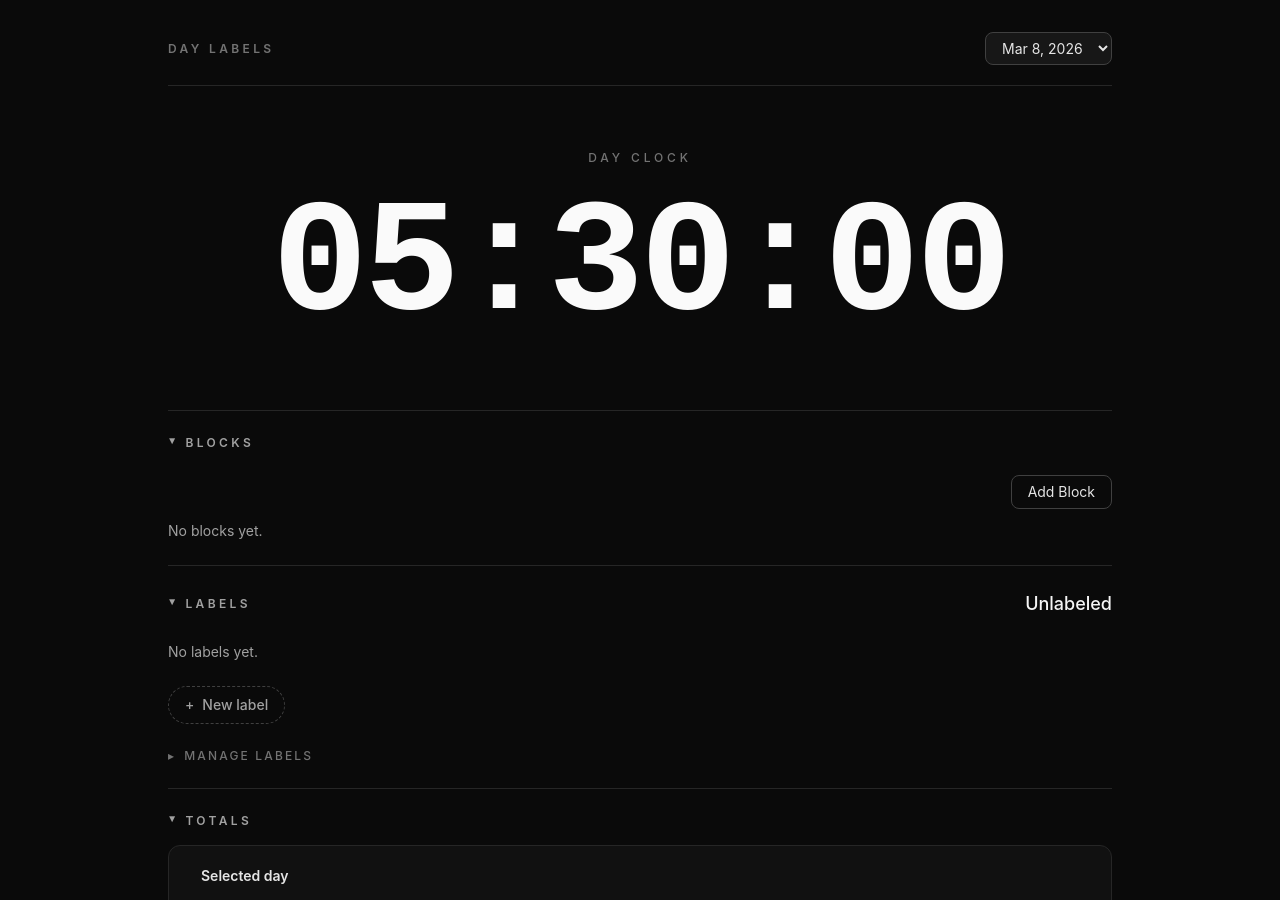
Test case: Blocks › closes the Block and adds no Block when deselecting
Click the button "+ New label" at (227, 705), box [168,686,285,724]
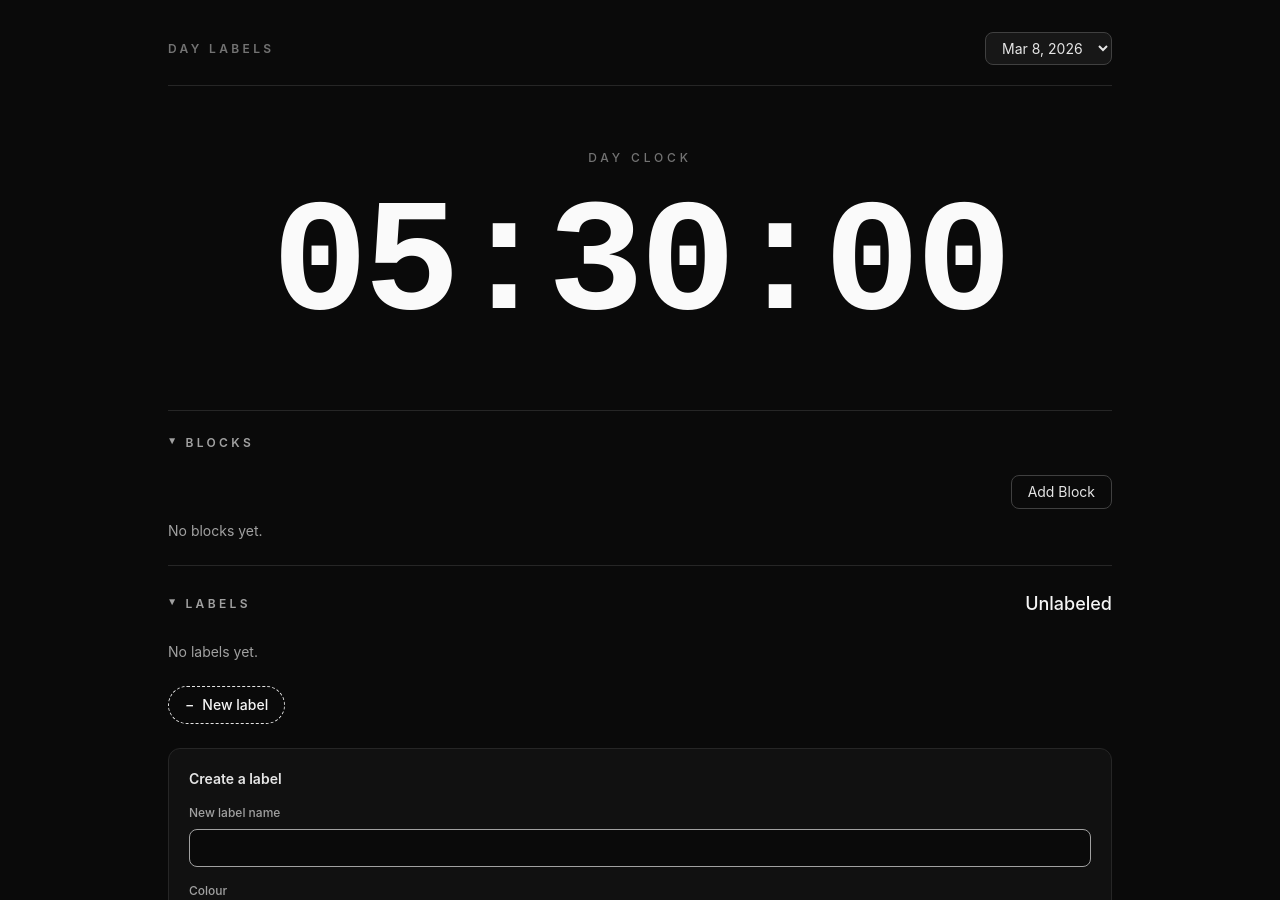
Type "Work" into the field labelled "New label name" at (640, 848), box [189,829,1091,867]
(page scrolled)
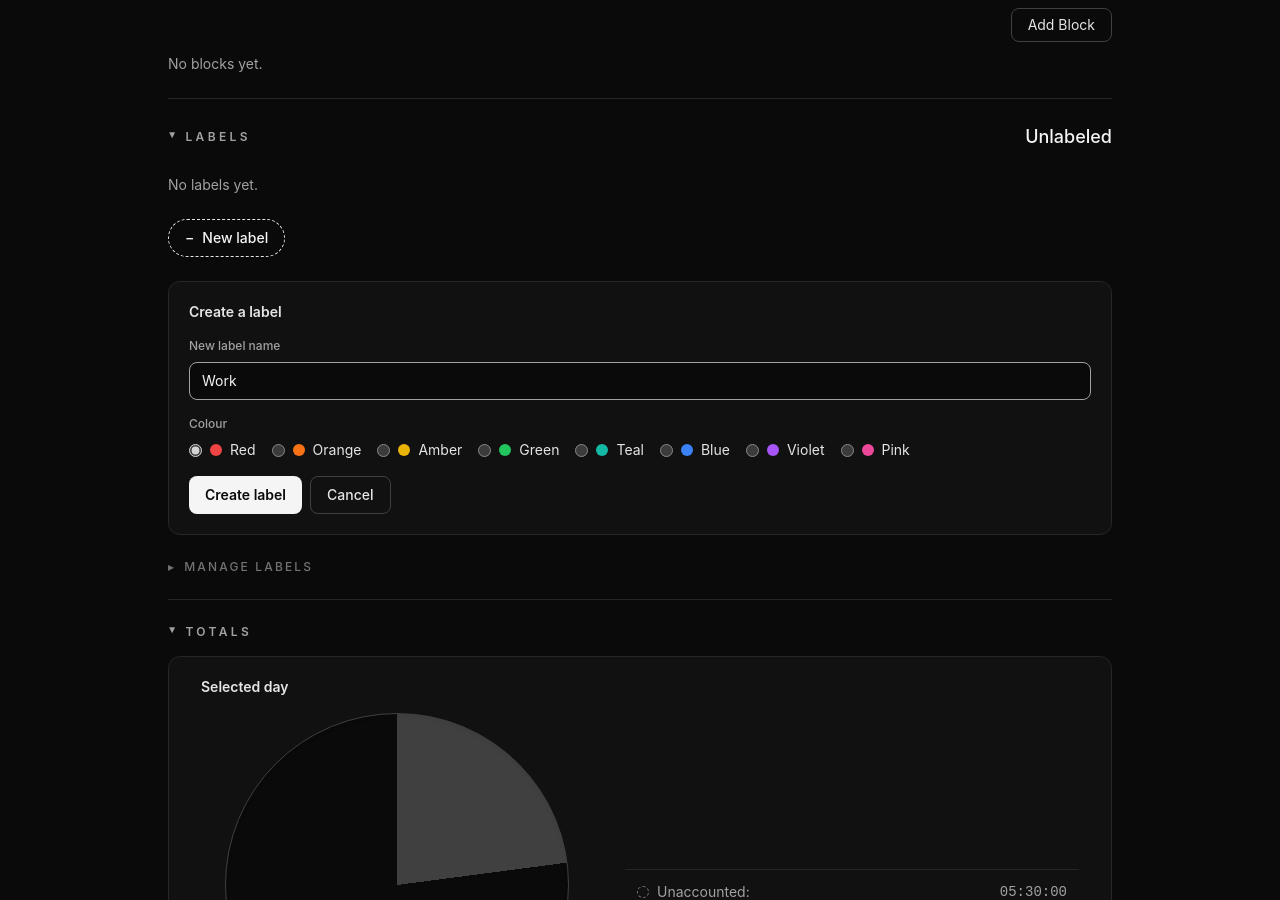
Click the radio button labelled "Blue" at (666, 450), box [660,444,673,456]
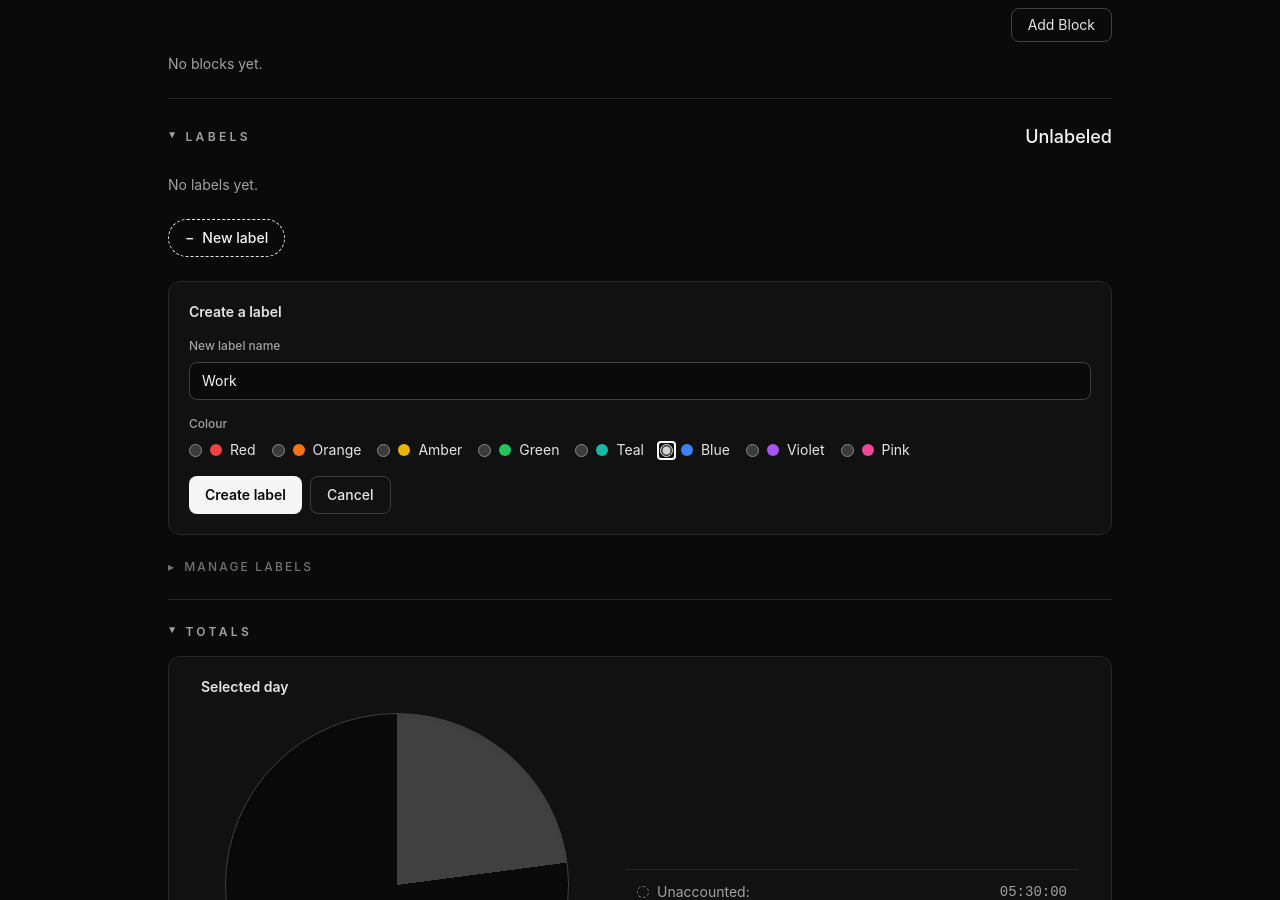
Click the button "Create label" at (246, 495), box [189,476,302,514]
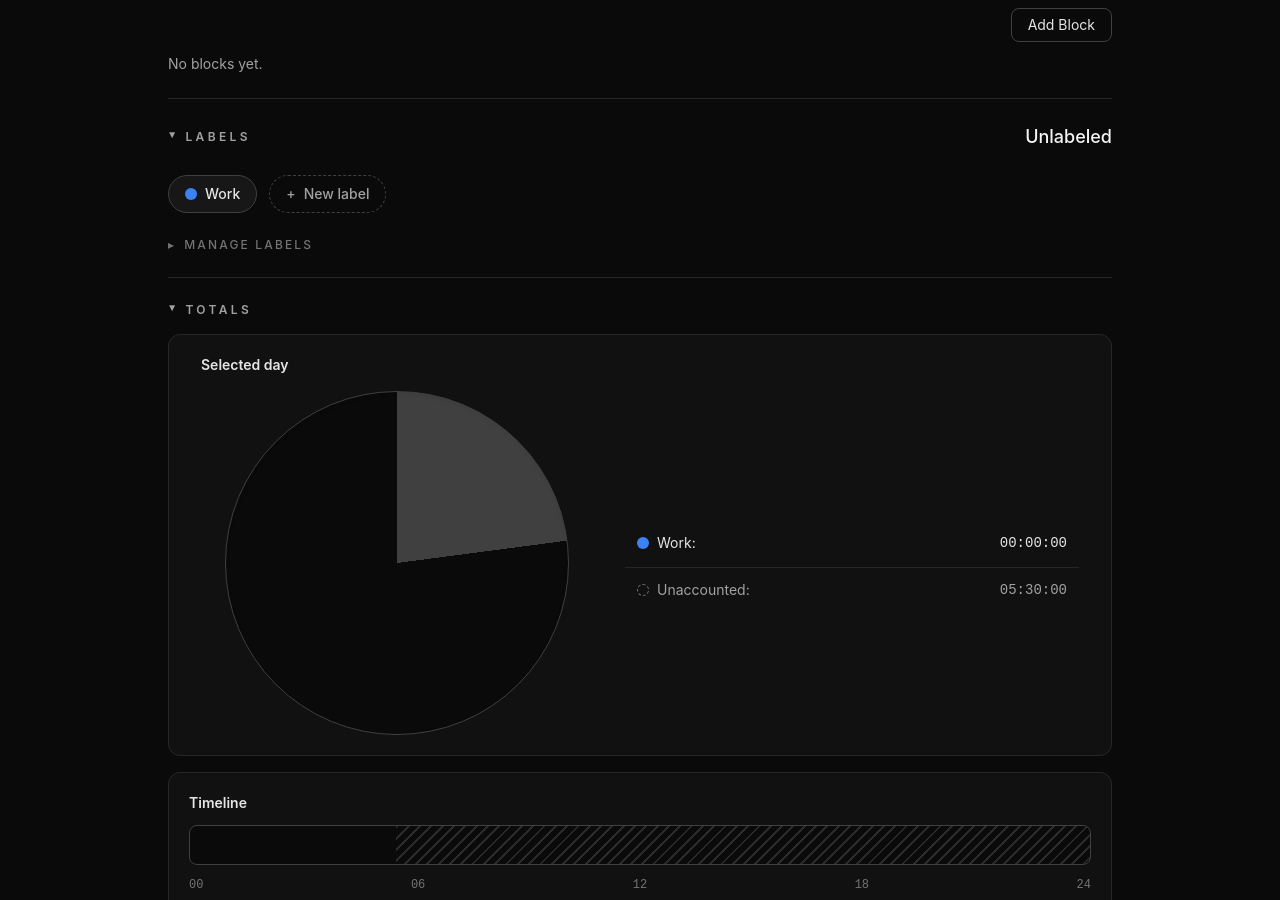
Click the button "Work" at (213, 194), box [168,175,257,213]
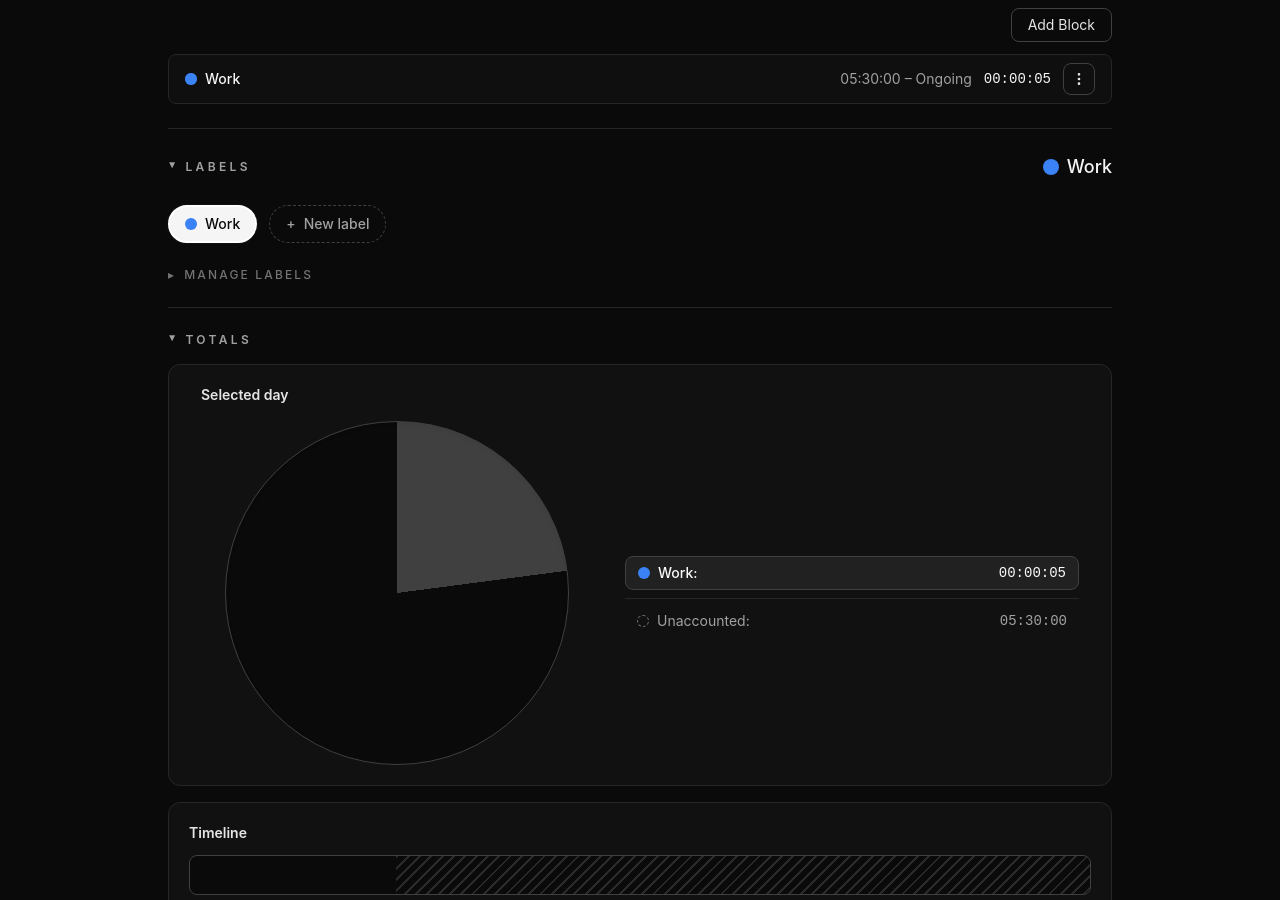
Click the button "Work" at (213, 224), box [168,205,257,243]
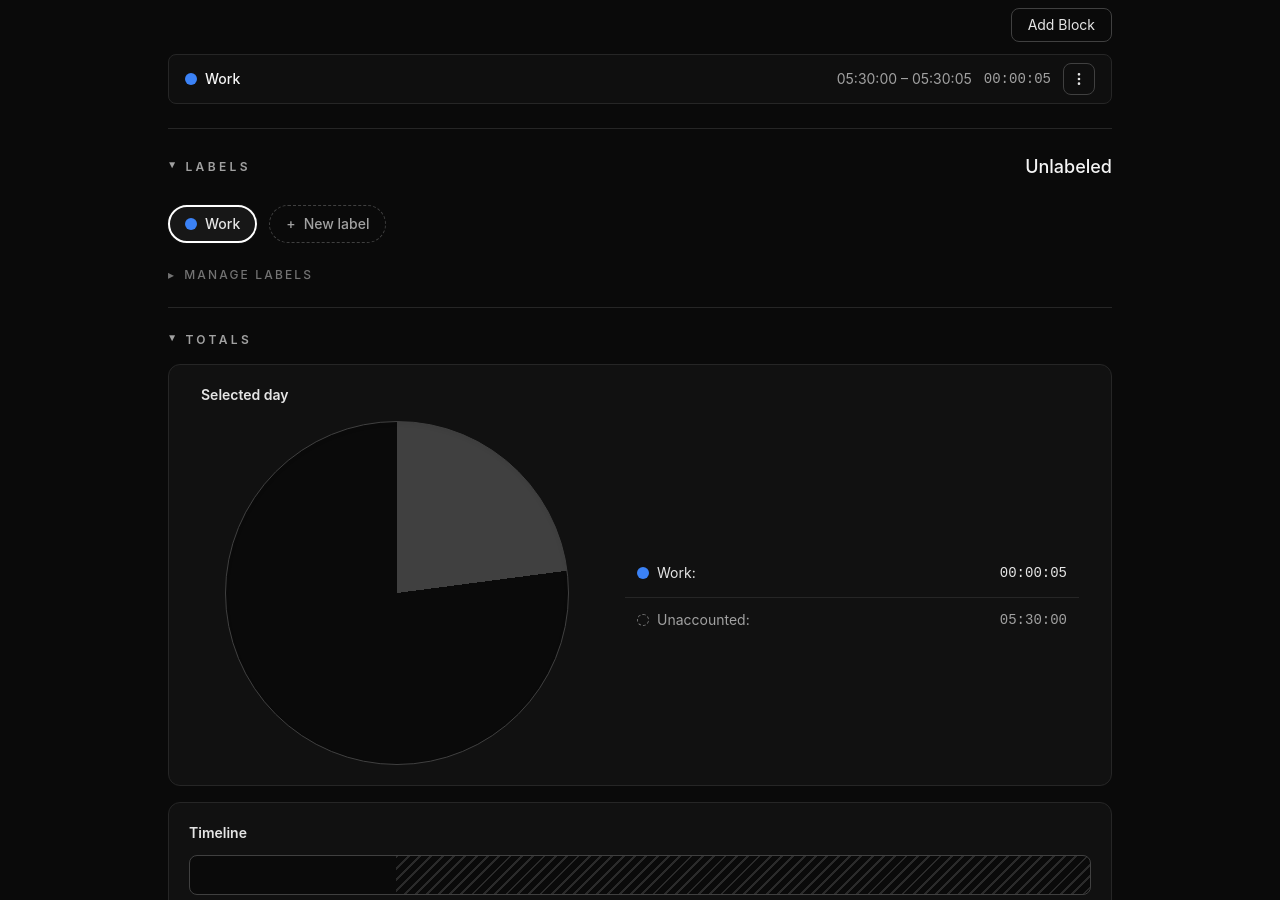
Expected: the list item "Work 05:30:00 – 05:30:05 00:00:05" is shown, [168,54,1112,104]
Expected: the message named "Active label" reads "Unlabeled", [1025,156,1112,177]
Expected: the list item "Work 05:30:00 – 05:30:05 00:00:05" no longer shows "Ongoing", [168,54,1112,104]
